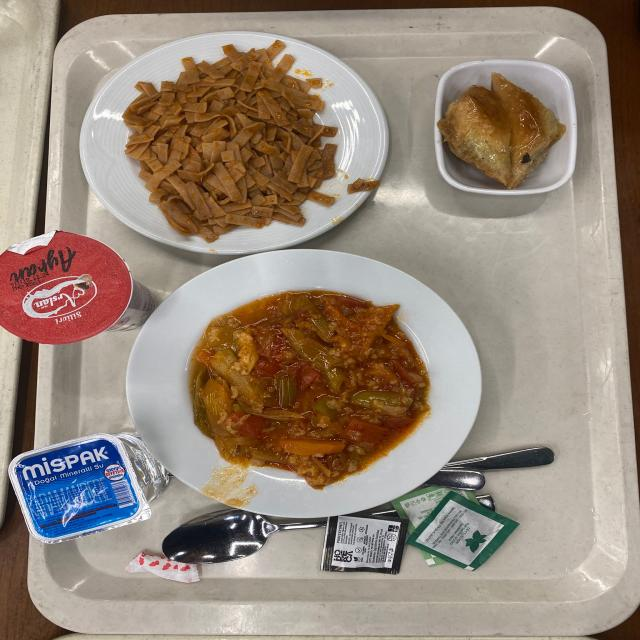ana_yemek: (126, 265, 469, 509), (77, 29, 393, 249)
yan_yemek: (434, 60, 572, 198)
